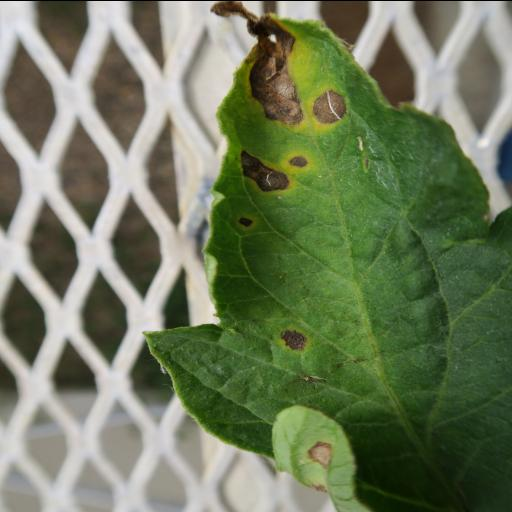Early Blight: (142, 14, 512, 512)
